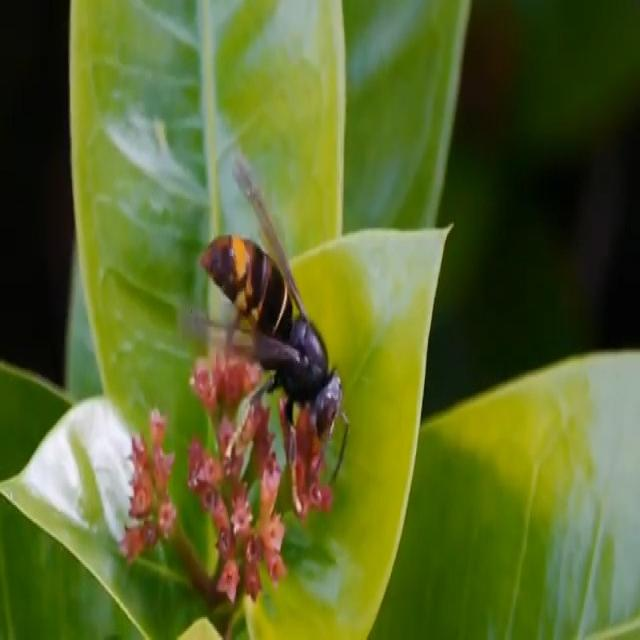Hornets: (181, 153, 351, 513)
